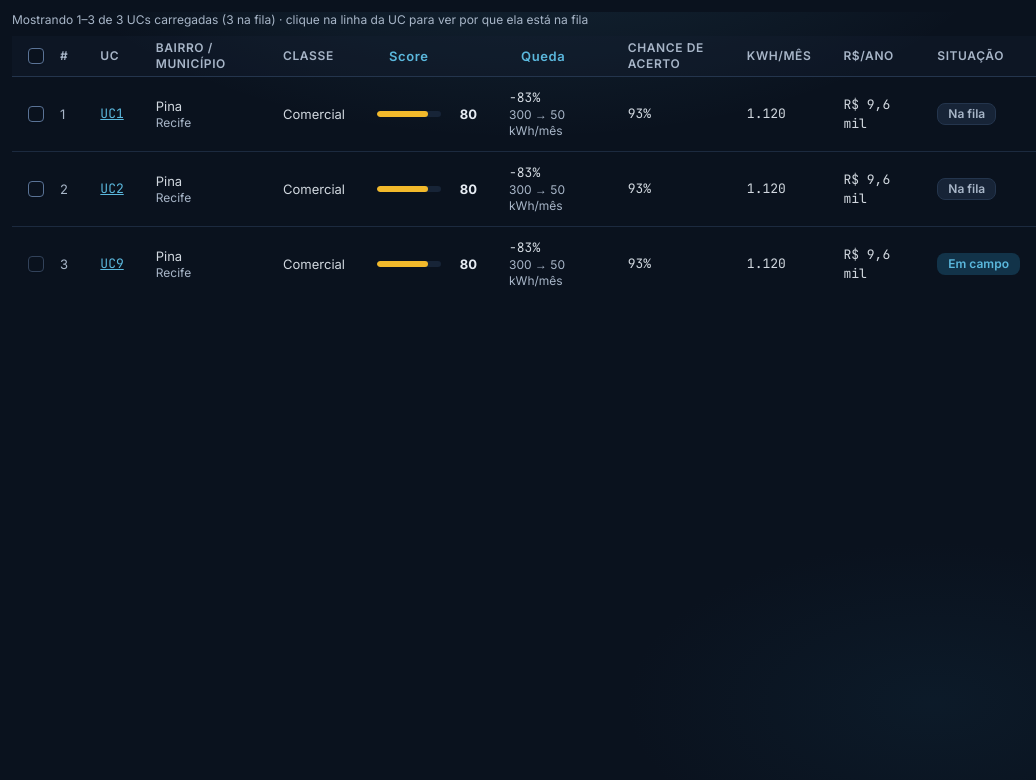
it: PrioritizedQueueTable › marca todas as UCs livres pelo cabeçalho e limpa no segundo clique
Click the checkbox named "Selecionar as UCs livres da página": (36, 56) [28,48,44,64]
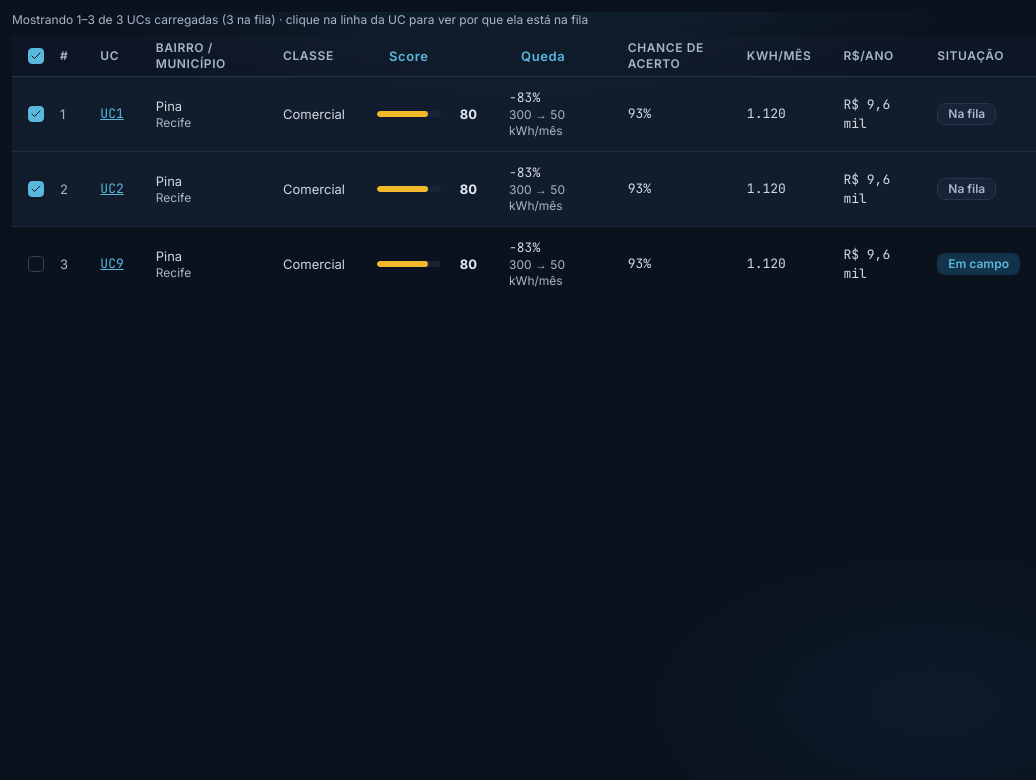
Expected: the checkbox named "Selecionar as UCs livres da página" is checked
Expected: the checkbox named "Selecionar UC1" is checked, [28,106,44,122]
Expected: the checkbox named "Selecionar UC2" is checked, [28,180,44,196]
Click the checkbox named "Selecionar as UCs livres da página": (36, 56) [28,48,44,64]
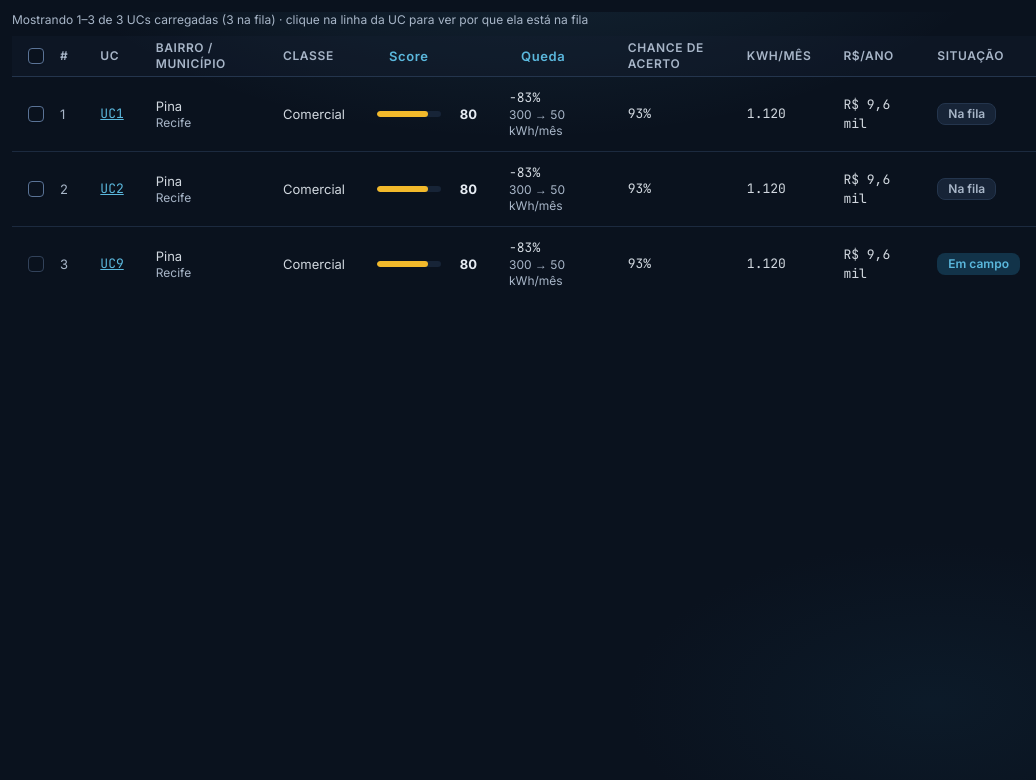
Expected: the checkbox named "Selecionar UC1" is not checked, [28,106,44,122]
